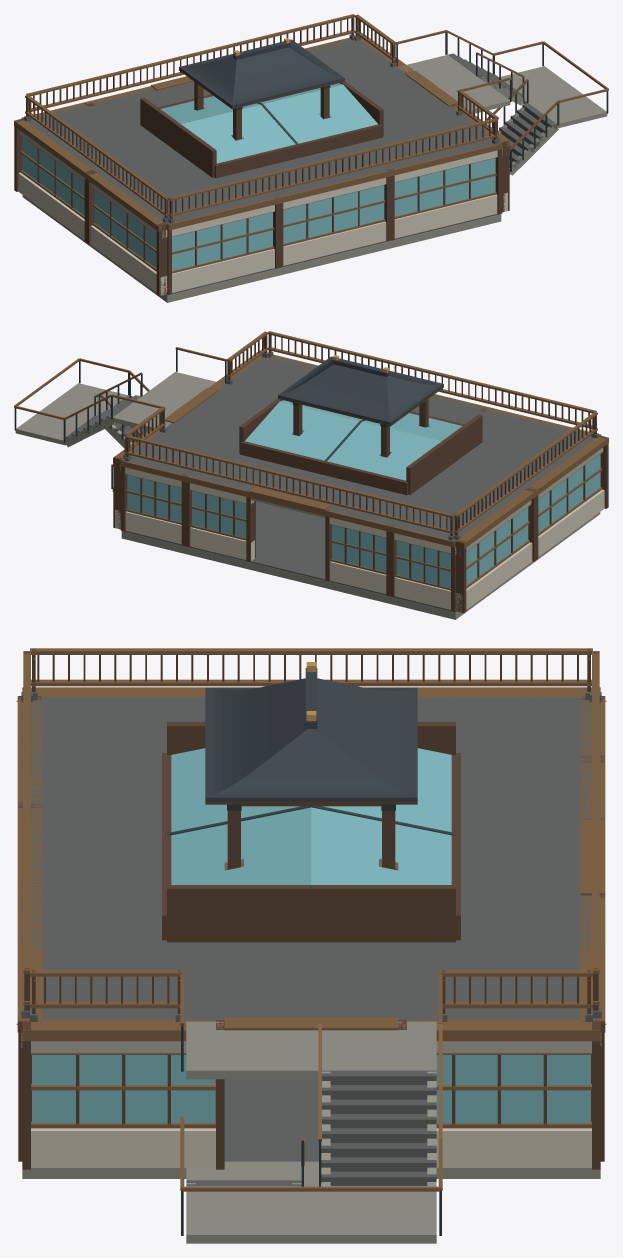
3 renders of one model, top to bottom at view 1: azimuth 30°, elevation 25°; view 2: azimuth 150°, elevation 25°; view 3: azimuth 270°, elevation 25°, orthographic. The views are drawn at different scales.
Visible parts, largest first — view 1: 分格窗洞与木石墙 (×3), 石铺面与混凝土承板 (×2), 实际开洞上的双坡采光玻璃, 廊边木栏与实际竖梃 (×5), 双跑连续梁与实体踏步, 连续飞檐与梁椽, 中轴实开门墙; view 2: 石铺面与混凝土承板 (×2), 中轴实开门墙, 分格窗洞与木石墙 (×3), 实际开洞上的双坡采光玻璃, 廊边木栏与实际竖梃 (×5), 双跑连续梁与实体踏步, 连续飞檐与梁椽; view 3: 石铺面与混凝土承板 (×2), 分格窗洞与木石墙 (×3), 实际开洞上的双坡采光玻璃, 双跑连续梁与实体踏步, 连续飞檐与梁椽, 廊边木栏与实际竖梃 (×5), 中轴实开门墙, 石础、木柱与金属承箍 (×2).
Boxes of the visible parts, x1,y1,x2,y2 form: 分格窗洞与木石墙 (×3): (14,35,509,295); 石铺面与混凝土承板 (×2): (22,39,501,302); 实际开洞上的双坡采光玻璃: (140,81,383,178); 廊边木栏与实际竖梃 (×5): (24,14,499,223); 双跑连续梁与实体踏步: (396,30,608,175); 连续飞檐与梁椽: (179,38,344,109); 中轴实开门墙: (21,37,360,138); 石铺面与混凝土承板 (×2): (121,356,600,619); 中轴实开门墙: (120,460,455,611); 分格窗洞与木石墙 (×3): (113,352,608,612); 实际开洞上的双坡采光玻璃: (239,398,482,495); 廊边木栏与实际竖梃 (×5): (123,331,598,540); 双跑连续梁与实体踏步: (14,347,226,491); 连续飞檐与梁椽: (278,355,443,426); 石铺面与混凝土承板 (×2): (22,696,600,1178); 分格窗洞与木石墙 (×3): (16,687,600,1169); 实际开洞上的双坡采光玻璃: (162,722,460,942); 双跑连续梁与实体踏步: (180,974,442,1243); 连续飞檐与梁椽: (205,662,417,806); 廊边木栏与实际竖梃 (×5): (21,648,601,1021); 中轴实开门墙: (580,696,606,1161); 石础、木柱与金属承箍 (×2): (227,804,395,869).
Size of the model in its own units: 23.5 by 7.5 by 12.24.
Materials: 13 (13 with a texture image).
